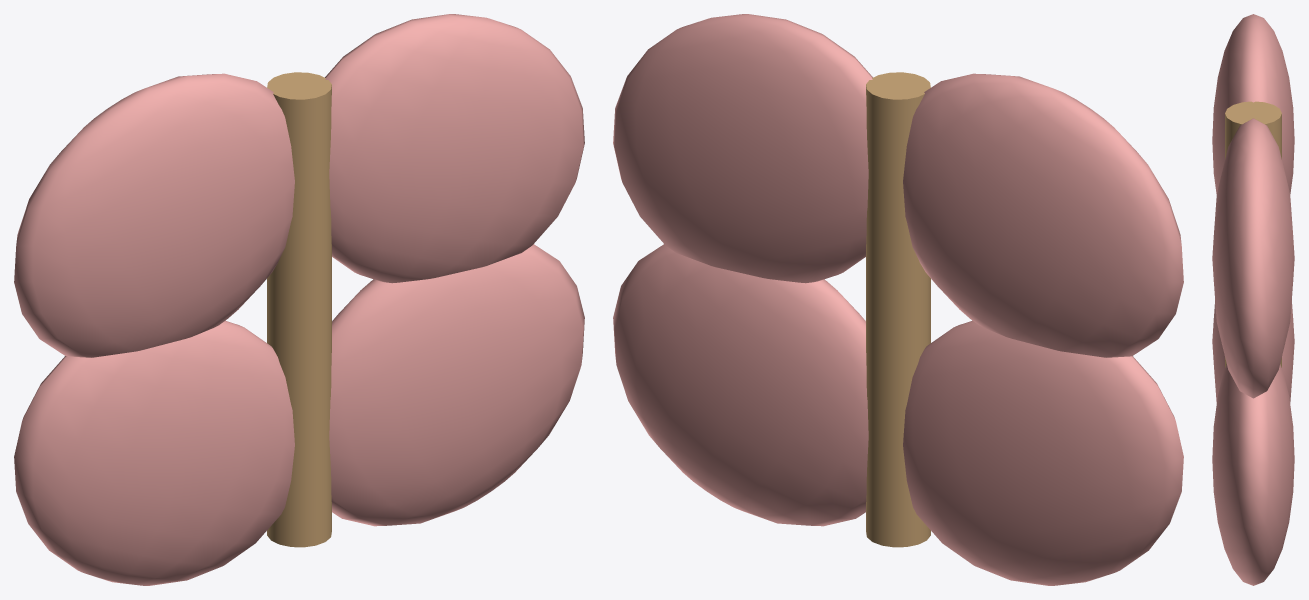
The model's file is TRD-05-03.glb.
3 views of the same model, side by side, from view 1: azimuth 30°, elevation 25°; view 2: azimuth 150°, elevation 25°; view 3: azimuth 270°, elevation 25° (orthographic). The views are drawn at different scales.
Parts seen in each view (by area): view 1: TRD-05-03; view 2: TRD-05-03; view 3: TRD-05-03.
Part boxes in pixels (left/top/right/bottom): TRD-05-03: left=14, top=14, right=584, bottom=585; TRD-05-03: left=613, top=14, right=1183, bottom=585; TRD-05-03: left=1212, top=14, right=1294, bottom=585.
Size of the model in its own units: 0.9074 by 0.7625 by 0.13.
